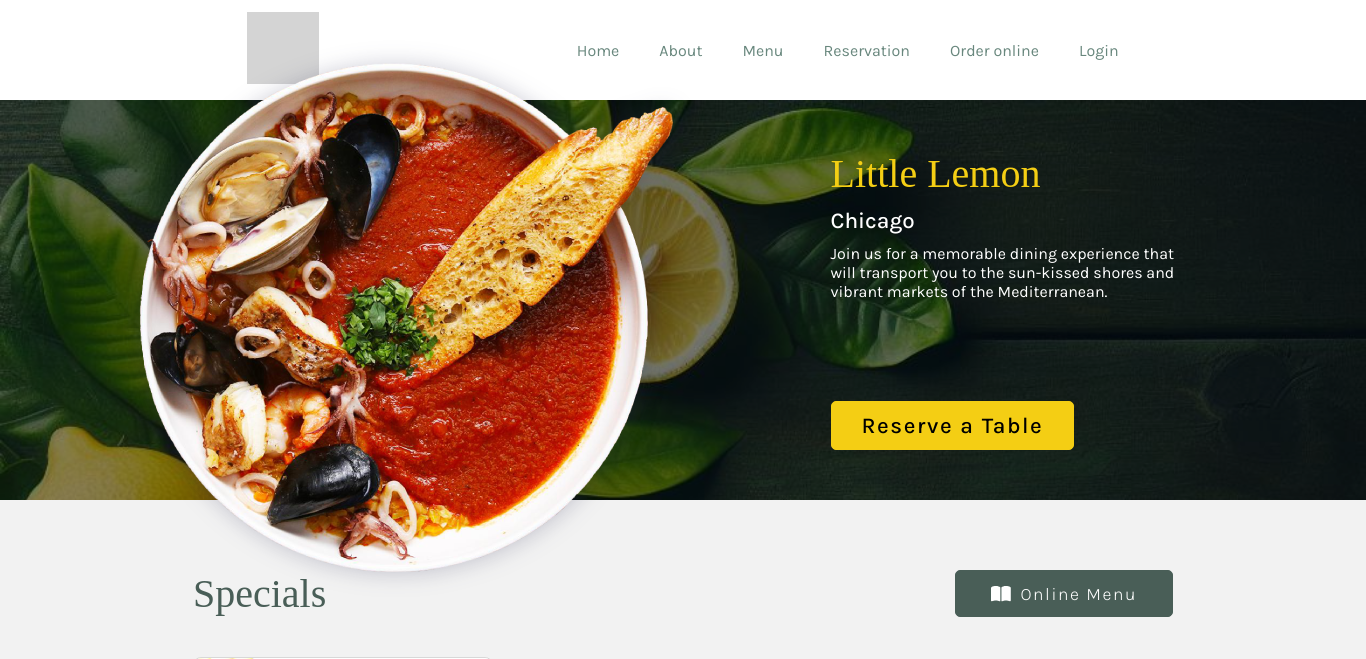
Test case: Navigates to BookingPage when clicking on Reservation link
Click the link "Reservation": (867, 50) 824,40 -> 910,60
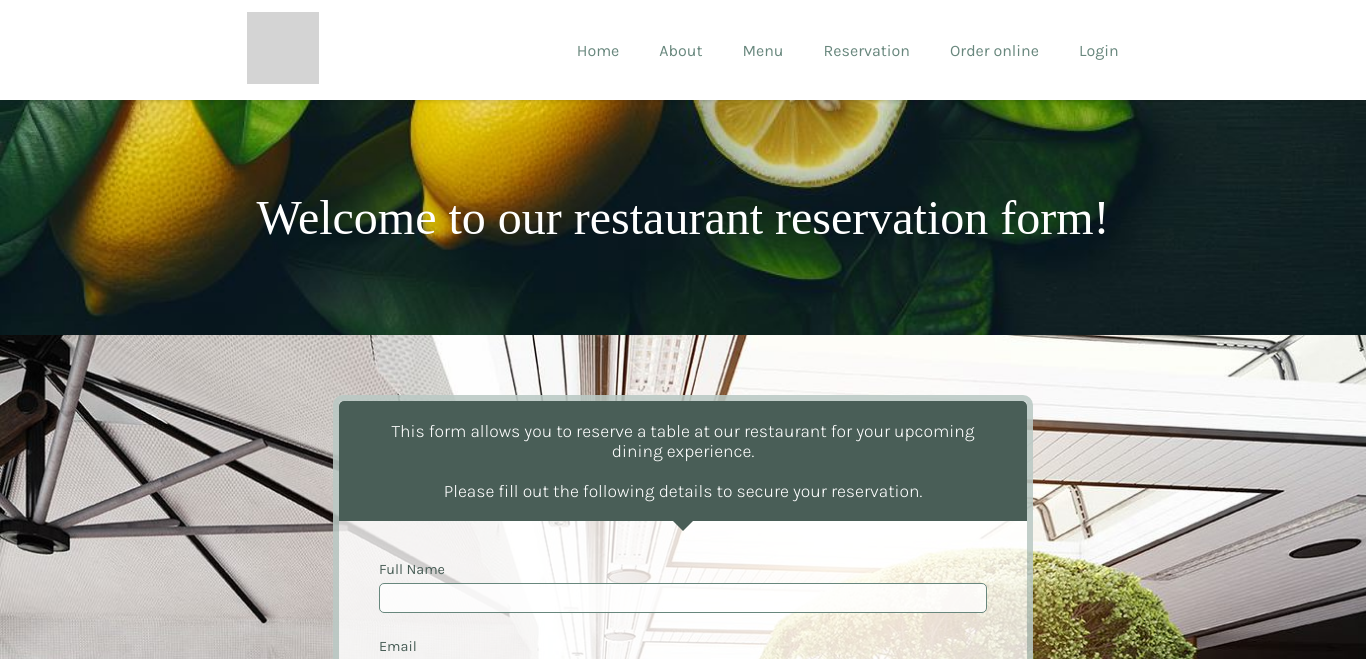
Result: the heading "Welcome to our restaurant reservation form!" is shown at 256,191 -> 1110,244
